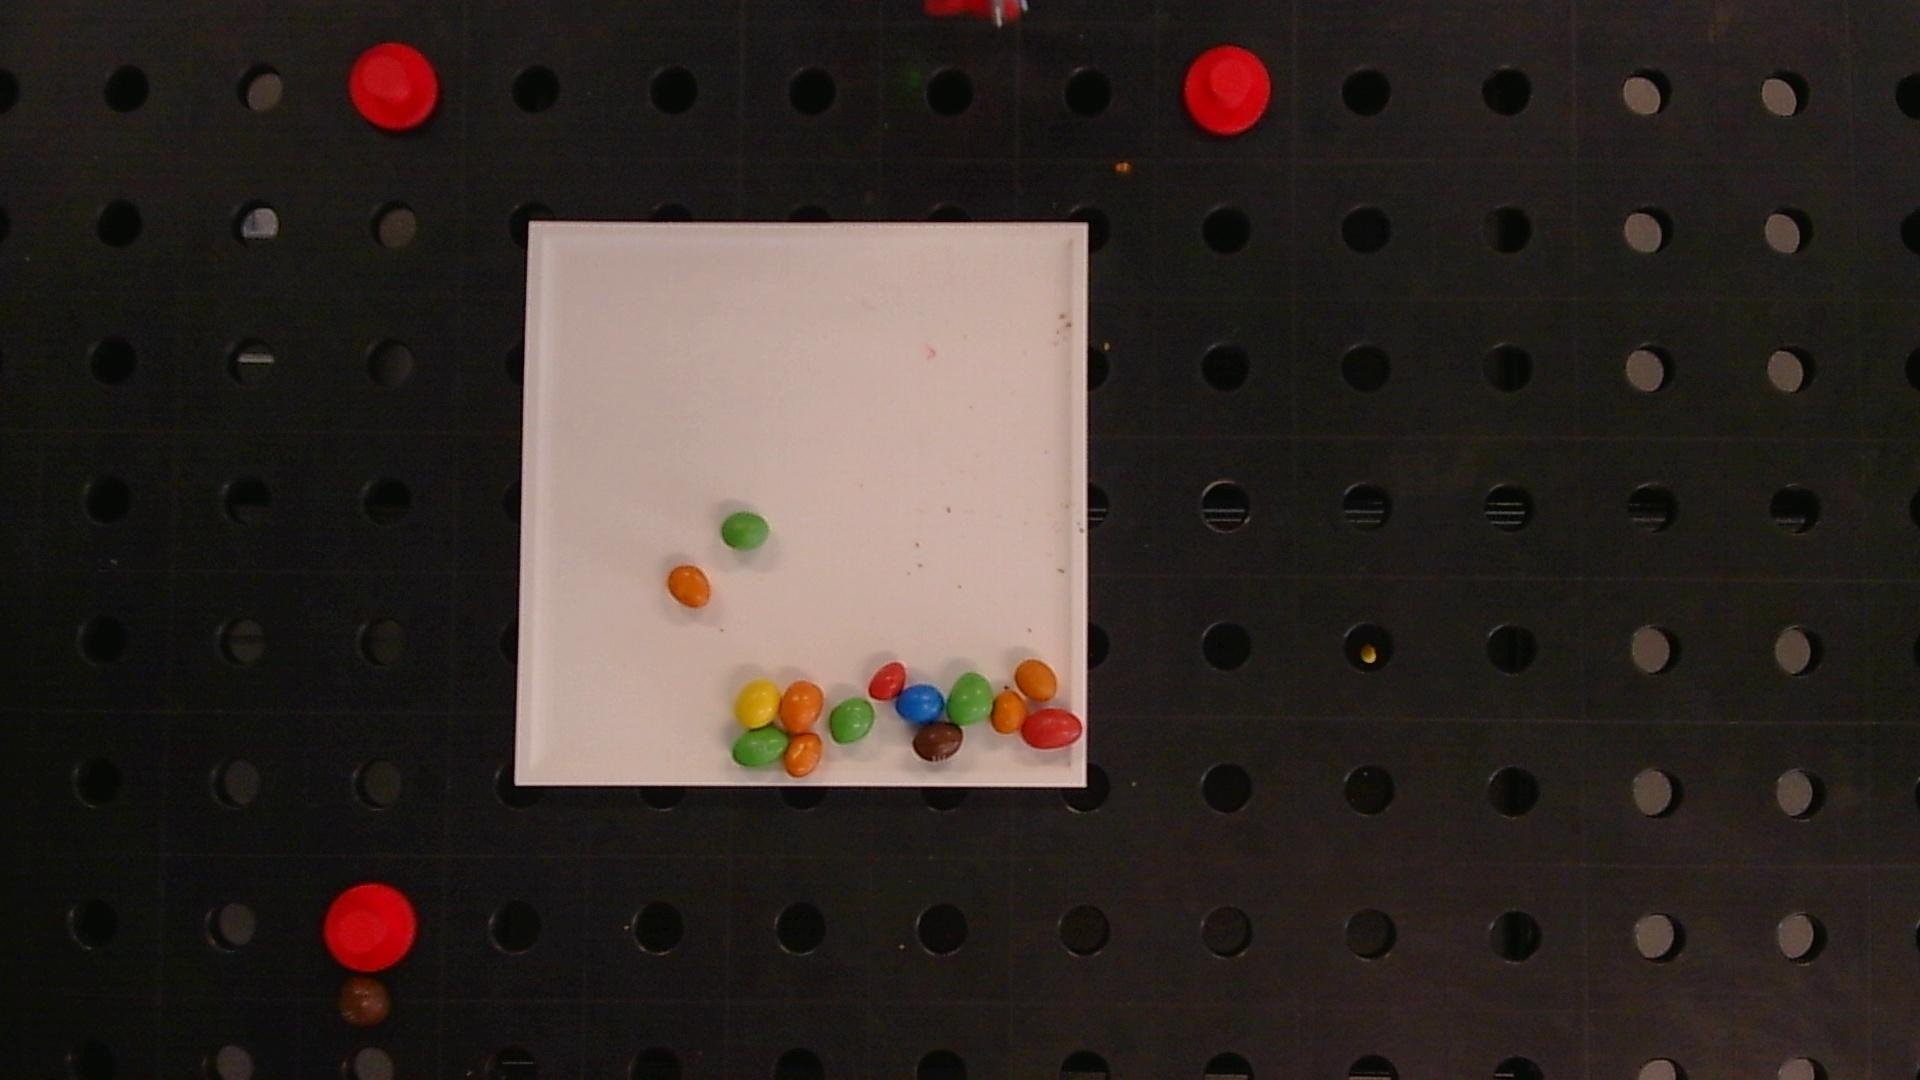blue: (895, 683, 944, 723)
brown: (913, 721, 964, 761)
green: (947, 673, 993, 724), (733, 727, 787, 767), (828, 698, 874, 744), (721, 512, 770, 550)
orange: (779, 680, 823, 731), (667, 564, 711, 608), (1014, 658, 1058, 702), (785, 732, 822, 777), (992, 690, 1026, 733)
red: (1021, 709, 1083, 748), (868, 661, 905, 699)
yellow: (736, 679, 781, 728)
